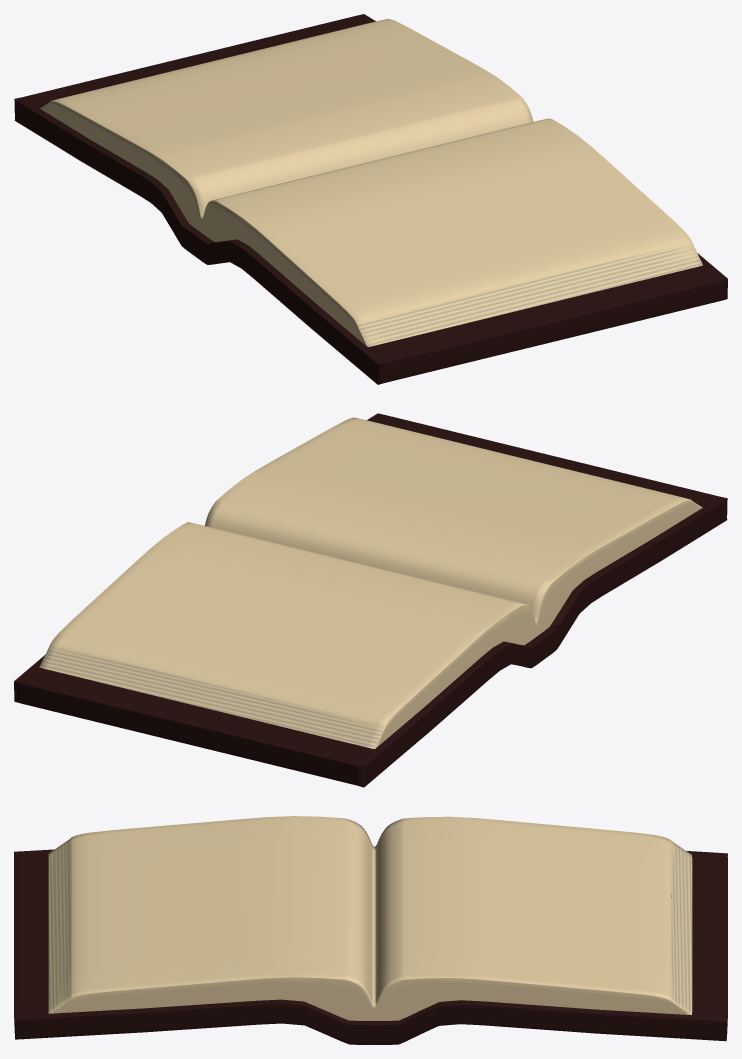
The model's file is open book.fbx.
The picture shows the model from 3 angles, top to bottom: view 1: azimuth 30°, elevation 25°; view 2: azimuth 150°, elevation 25°; view 3: azimuth 270°, elevation 25°; orthographic projection. The views are drawn at different scales.
Visible parts, largest first — view 1: Cube.001, Cube; view 2: Cube.001, Cube; view 3: Cube.001, Cube.
Part boxes in pixels (<box>): Cube.001: <box>40,19,702,346</box>; Cube: <box>14,14,727,384</box>; Cube.001: <box>39,417,702,748</box>; Cube: <box>14,413,727,787</box>; Cube.001: <box>48,816,692,1020</box>; Cube: <box>14,849,727,1044</box>.
Size of the model in its own units: 200 by 36.56 by 361.
Materials: 2 (2 with a texture image).
